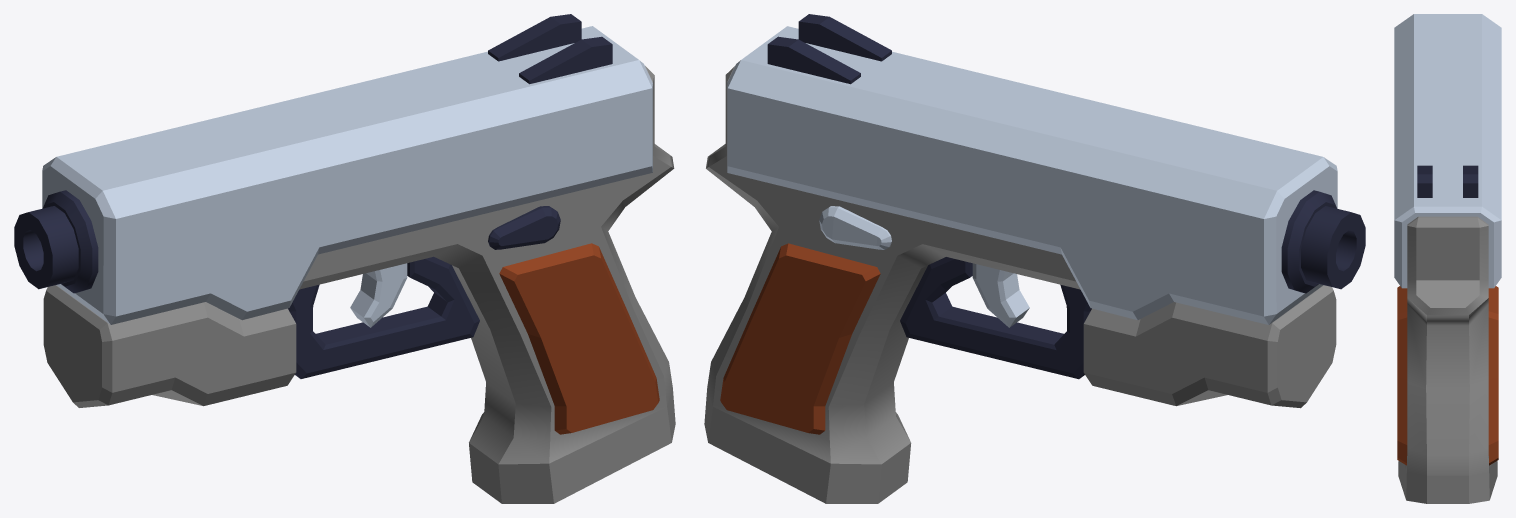
File: pistol.fbx
3 renders of one model, left to right at view 1: azimuth 30°, elevation 25°; view 2: azimuth 150°, elevation 25°; view 3: azimuth 270°, elevation 25°, orthographic. The views are drawn at different scales.
Visible parts, largest first — view 1: Pistol; view 2: Pistol; view 3: Pistol.
Boxes of the visible parts, box(x1,y1,x2,y2) form: Pistol: box(14, 14, 675, 503); Pistol: box(704, 14, 1365, 503); Pistol: box(1394, 14, 1501, 503).
Bounding box in the file's own units: 768 × 515 × 154.
Materials: 1 (1 with a texture image).
